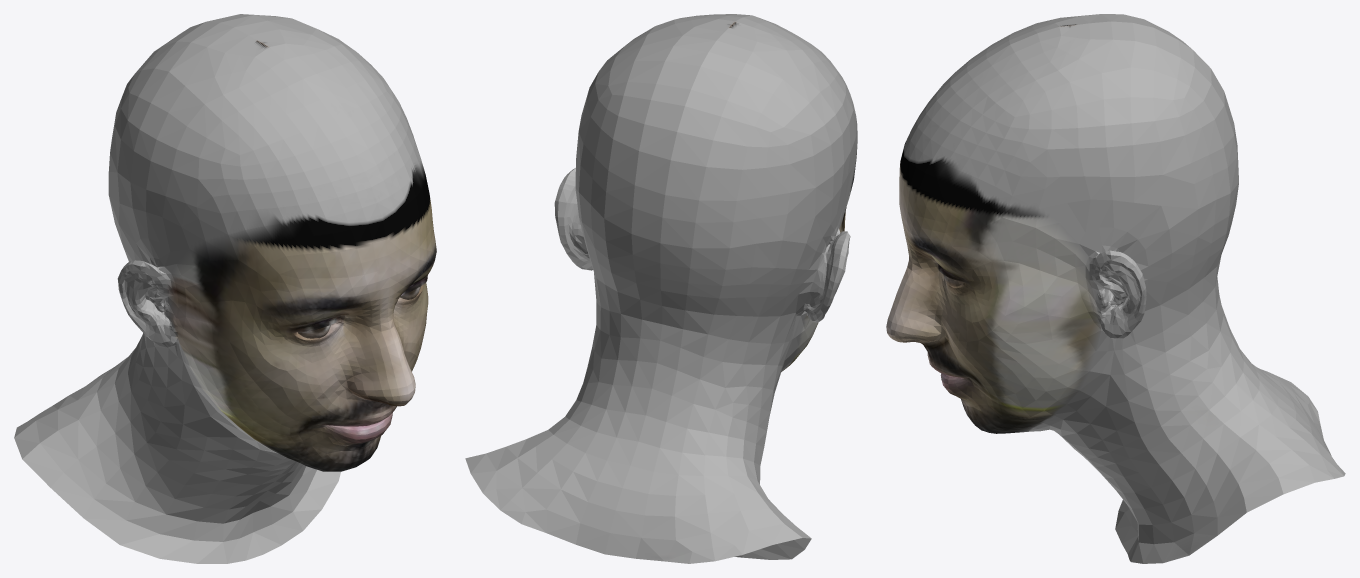
Rendered from ezgif-frame-028.obj.
The picture shows the model from 3 angles, left to right: view 1: azimuth 30°, elevation 25°; view 2: azimuth 150°, elevation 25°; view 3: azimuth 270°, elevation 25°; orthographic projection. The views are drawn at different scales.
Size of the model in its own units: 0.2075 by 0.3281 by 0.265.
Materials: 1 (1 with a texture image).
